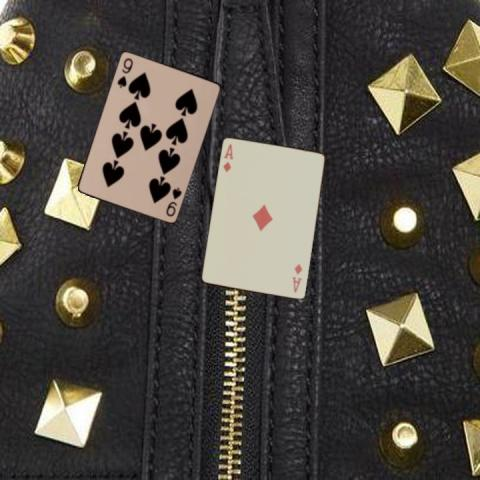9s: (114, 55, 134, 89), (162, 184, 182, 218)
Ad: (220, 141, 235, 174), (290, 261, 304, 294)
